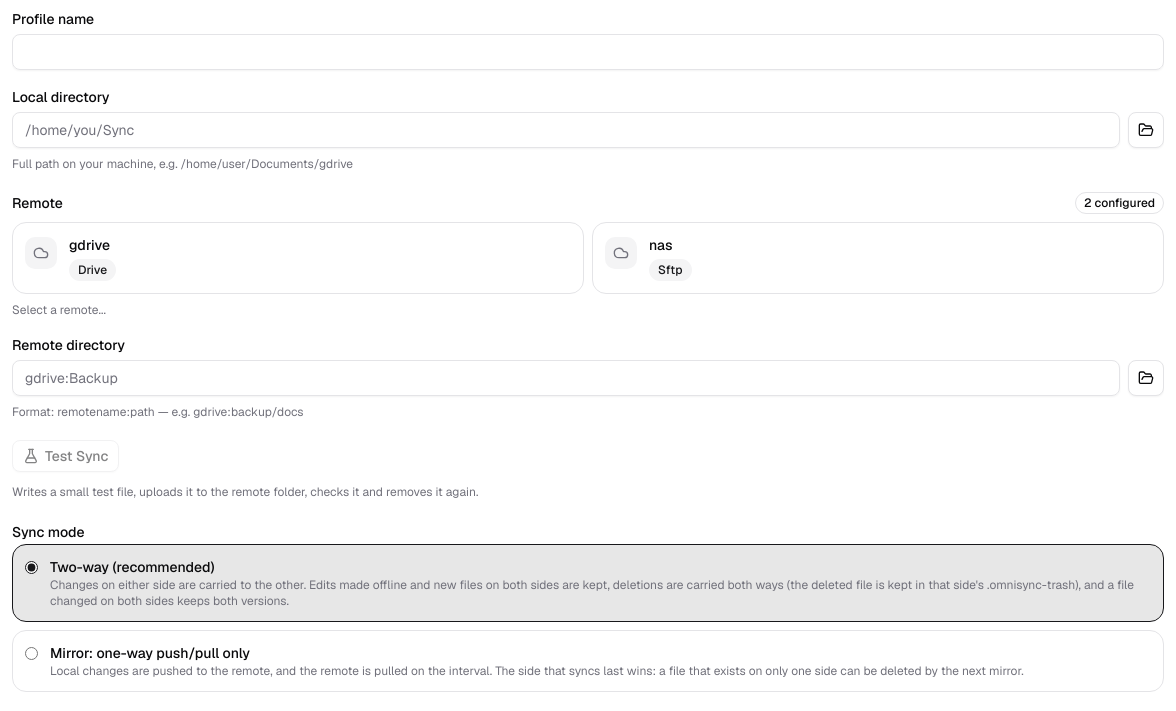
Test: ProfileForm remote dropdown › selecting a remote fills the remote: prefix of an empty remote directory
Click the button "gdrive drive": (41, 253) [12,222,584,294]
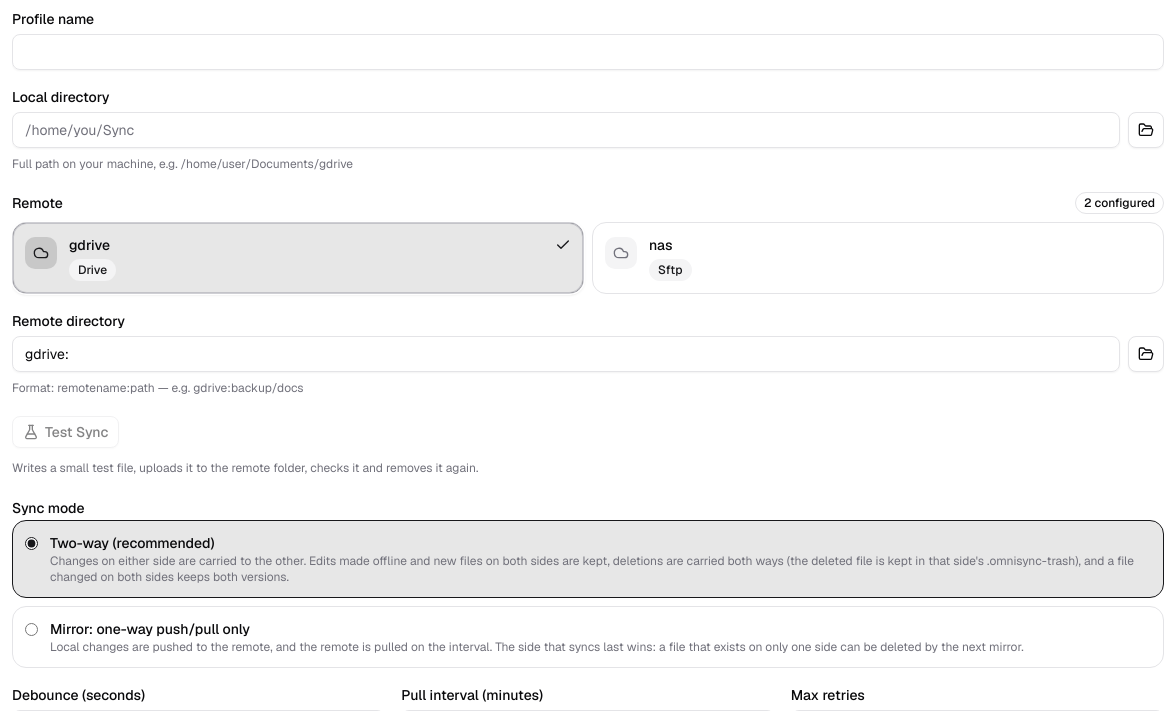
Check: the field labelled "Remote directory" holds "gdrive:", box [12,336,1120,372]
